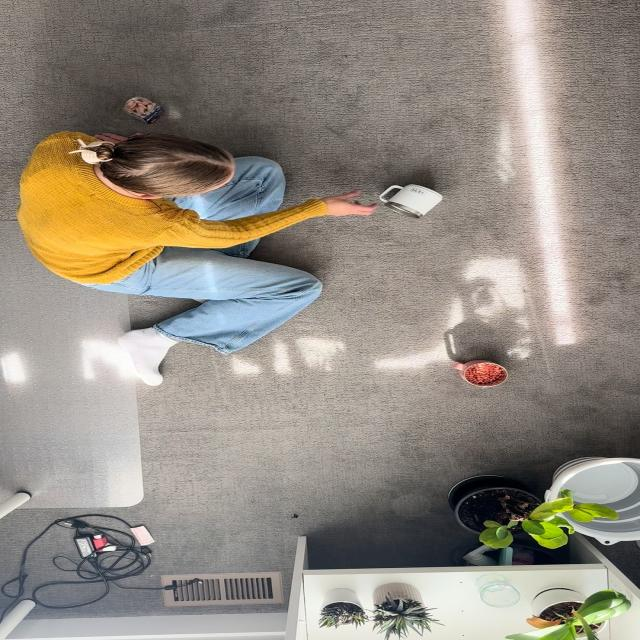IBC: (379, 184, 442, 218), (452, 359, 507, 387)
